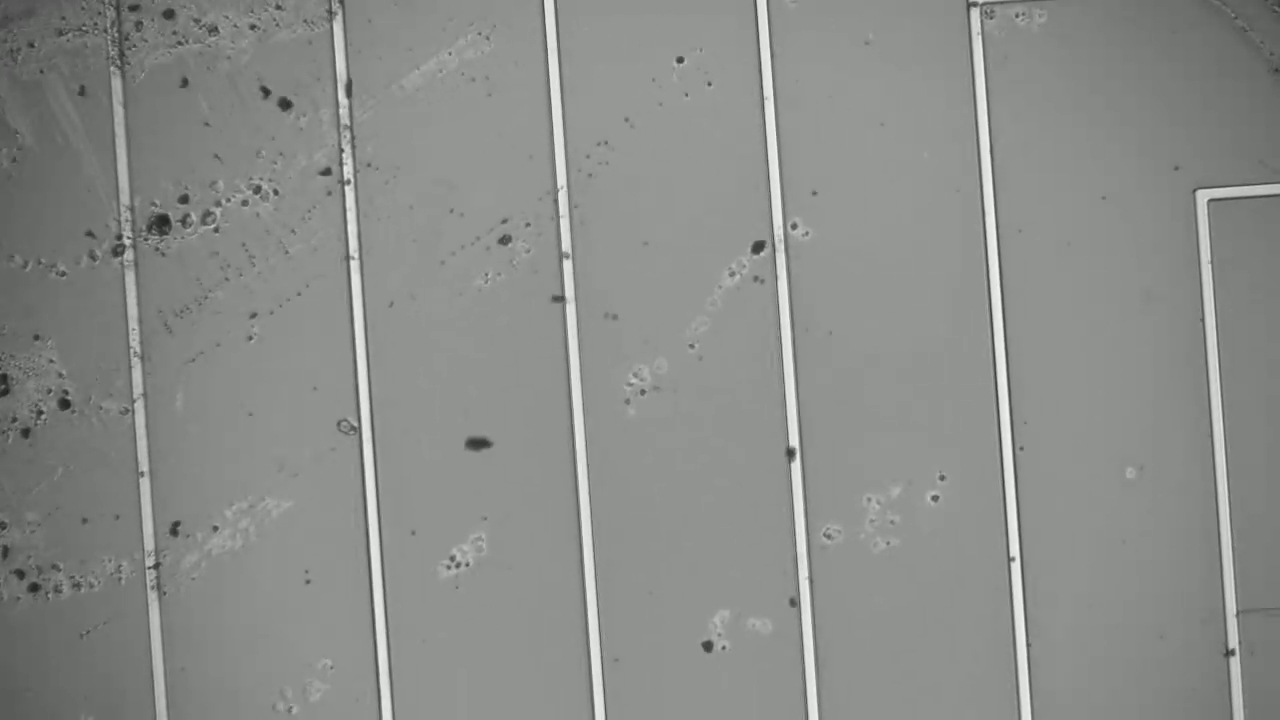stains_enbedded: (108, 236, 141, 259), (784, 440, 807, 464)
